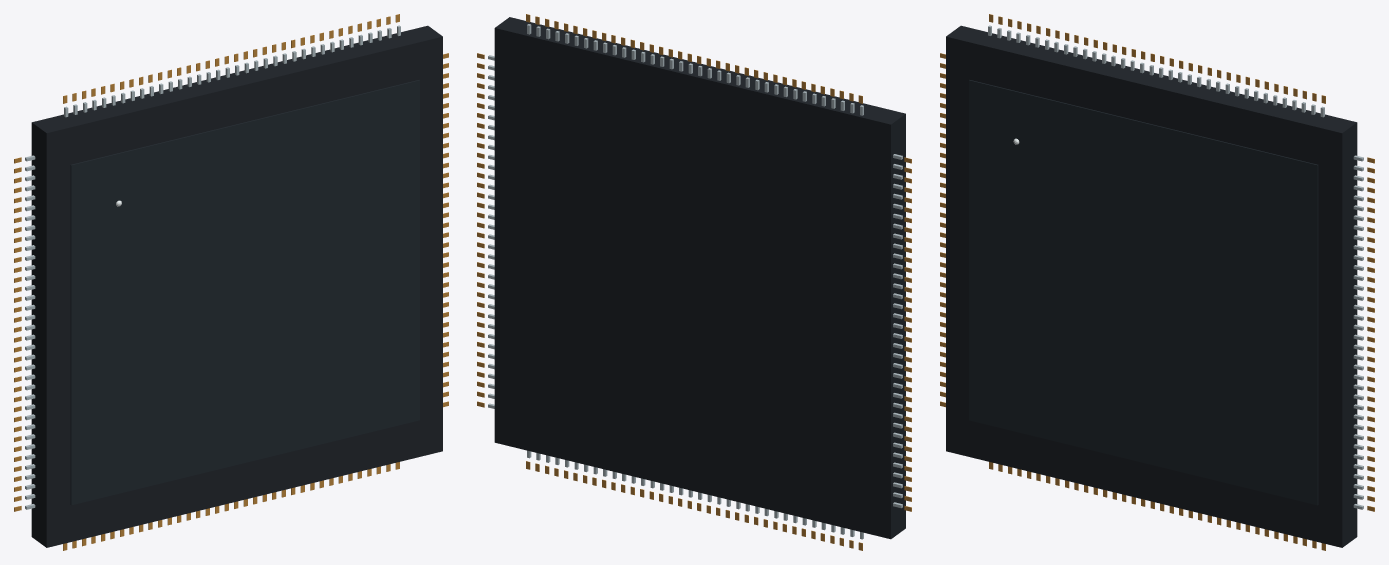
3 renders of one model, left to right at view 1: azimuth 30°, elevation 25°; view 2: azimuth 150°, elevation 25°; view 3: azimuth 330°, elevation 25°, orthographic.
Visible parts, largest first — view 1: U1; view 2: U1; view 3: U1.
Part boxes in pixels (x1,y1,x2,y2): U1: (14, 14, 448, 550); U1: (477, 14, 911, 550); U1: (940, 14, 1374, 550).
Size of the model in its own units: 0.0285 by 0.0285 by 0.00195.
